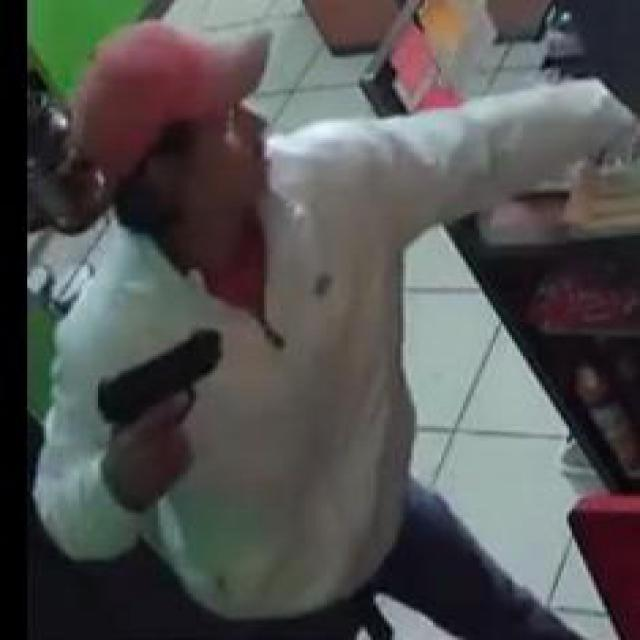weapon: (96, 327, 225, 432)
